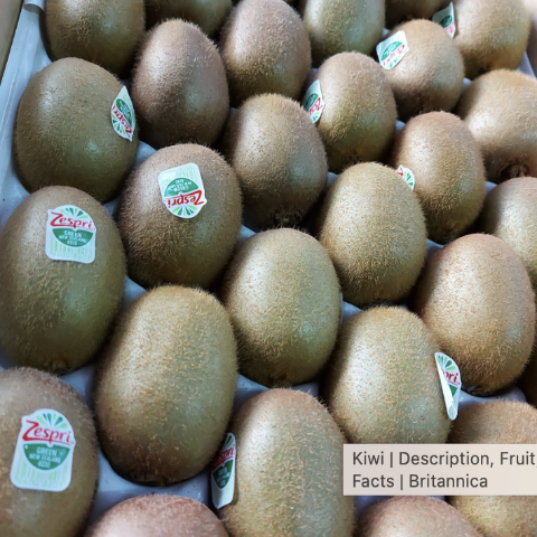kiwi: (80, 263, 250, 490), (320, 290, 465, 473), (0, 177, 136, 368), (197, 374, 355, 537), (411, 223, 536, 418), (312, 149, 433, 315), (120, 7, 236, 168), (129, 137, 241, 294), (381, 103, 487, 246), (296, 48, 407, 174), (229, 80, 333, 208)
